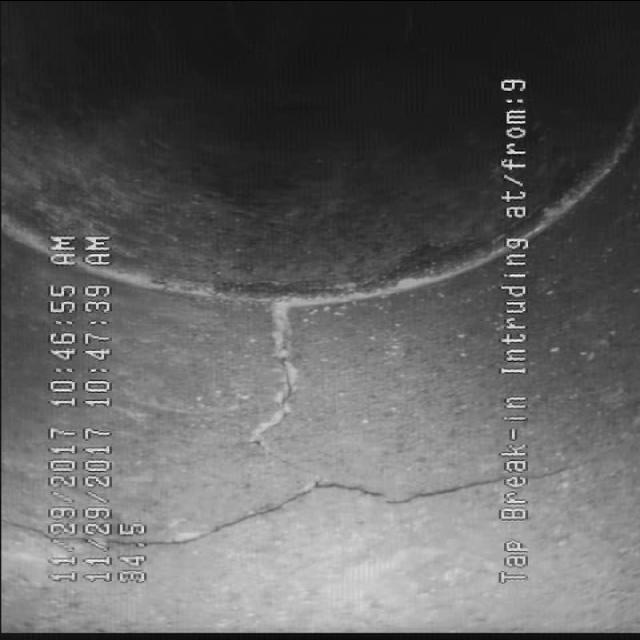Crack: (146, 304, 488, 564)
